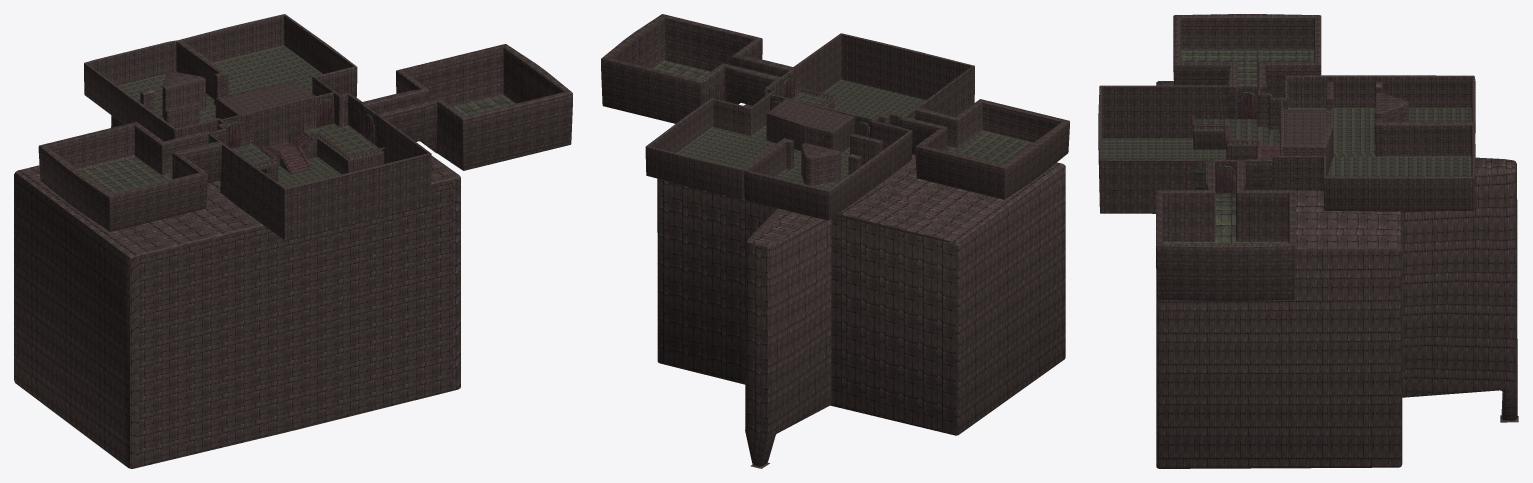
The model's file is sato.fbx.
3 views of the same model, side by side, from view 1: azimuth 30°, elevation 25°; view 2: azimuth 150°, elevation 25°; view 3: azimuth 270°, elevation 25° (orthographic). The views are drawn at different scales.
Visible parts, largest first — view 1: Plane.002, Plane.004, Plane, Plane.001, Plane.003, NurbsPath; view 2: Plane.002, Plane.004, Plane.001, Plane, Plane.003; view 3: Plane.002, Plane.004, Plane, Plane.001, Plane.003, Door1.003, Door1.002.
Boxes of the visible parts, box(x1,y1,x2,y2) form: Plane.002: box(14, 103, 460, 468); Plane.004: box(84, 14, 357, 152); Plane: box(208, 92, 431, 240); Plane.001: box(359, 44, 572, 170); Plane.003: box(38, 121, 224, 231); NurbsPath: box(252, 132, 384, 170); Plane.002: box(657, 104, 1065, 468); Plane.004: box(645, 90, 912, 220); Plane.001: box(601, 14, 795, 123); Plane: box(764, 33, 974, 133); Plane.003: box(900, 99, 1069, 199); Plane.002: box(1156, 81, 1518, 468); Plane.004: box(1269, 75, 1475, 211); Plane: box(1098, 85, 1284, 213); Plane.001: box(1156, 159, 1295, 301); Plane.003: box(1173, 14, 1321, 118); Door1.003: box(1215, 167, 1235, 192); Door1.002: box(1237, 94, 1257, 118).
Size of the model in its own units: 28.95 by 22.04 by 18.16.
4 materials, 4 textured.
